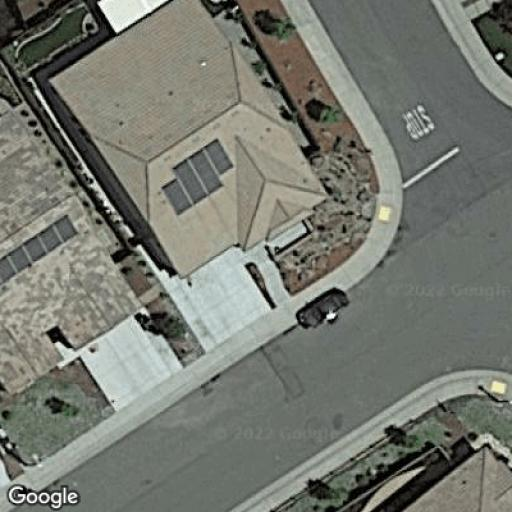solar-panel: (161, 138, 236, 216), (0, 214, 78, 284)
